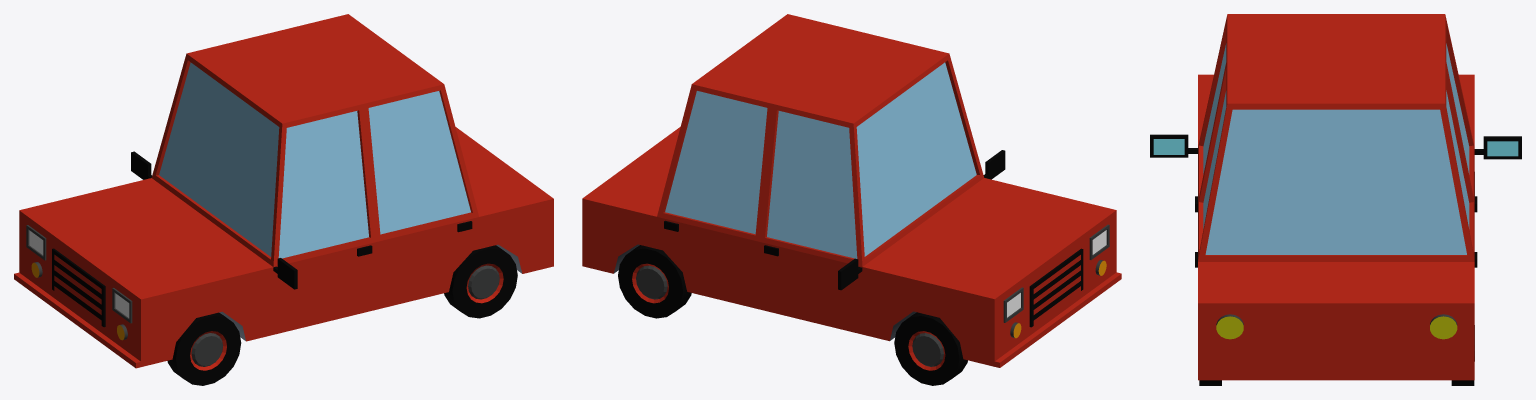
Rendered from car4A.FBX.
3 views of the same model, side by side, from view 1: azimuth 30°, elevation 25°; view 2: azimuth 150°, elevation 25°; view 3: azimuth 270°, elevation 25° (orthographic). The views are drawn at different scales.
Parts seen in each view (by area): view 1: car4A; view 2: car4A; view 3: car4A.
Part boxes in pixels (x1,y1,x2,y2): car4A: [14, 14, 553, 385]; car4A: [582, 14, 1121, 385]; car4A: [1150, 14, 1521, 385].
Size of the model in its own units: 9.78 by 5.11 by 6.58.
